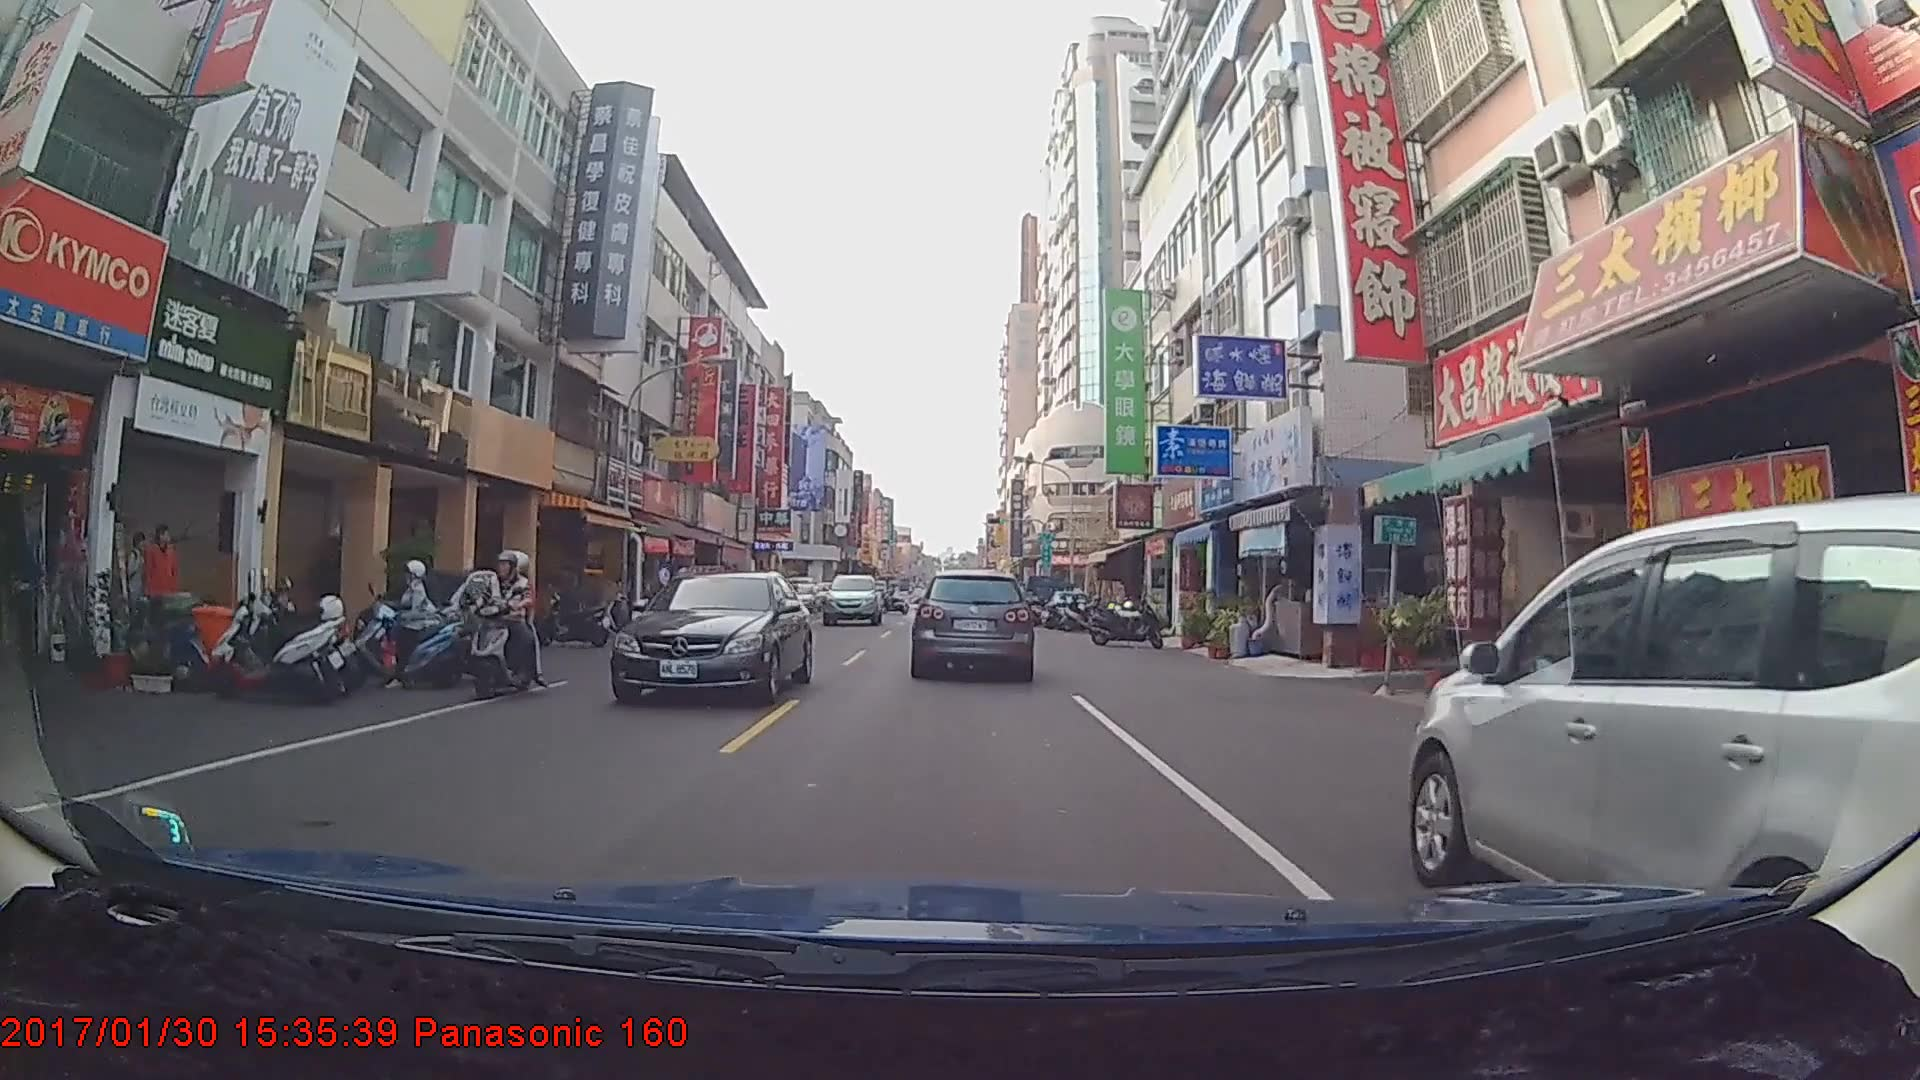pedestrian: (142, 518, 189, 644), (120, 523, 157, 641)
rider: (454, 544, 549, 704)
vehicle: (1409, 498, 1920, 974), (609, 568, 814, 708), (910, 571, 1033, 679), (820, 574, 883, 627), (1024, 574, 1070, 618)
